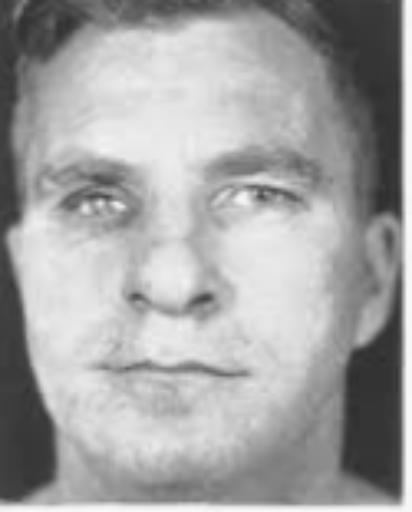left_eye: (212, 185, 305, 218)
left_lip_corner: (220, 362, 256, 385)
right_eye: (49, 191, 138, 223)
right_lip_corner: (94, 356, 126, 380)
